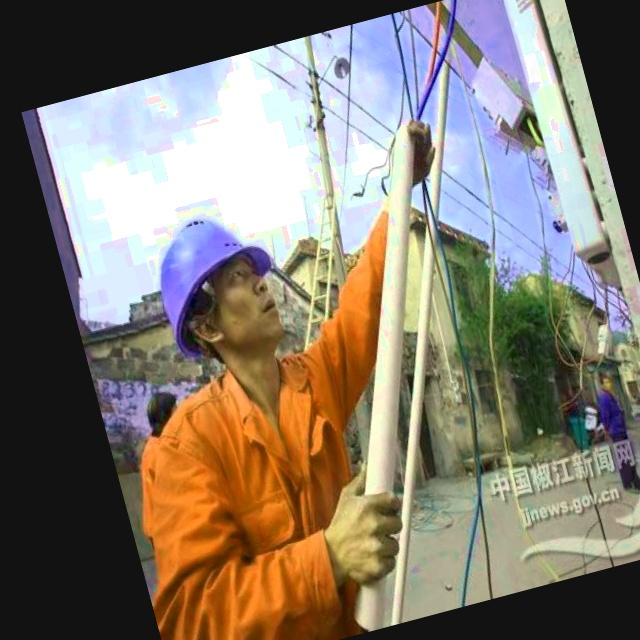Con_Casco: (142, 201, 294, 376)
